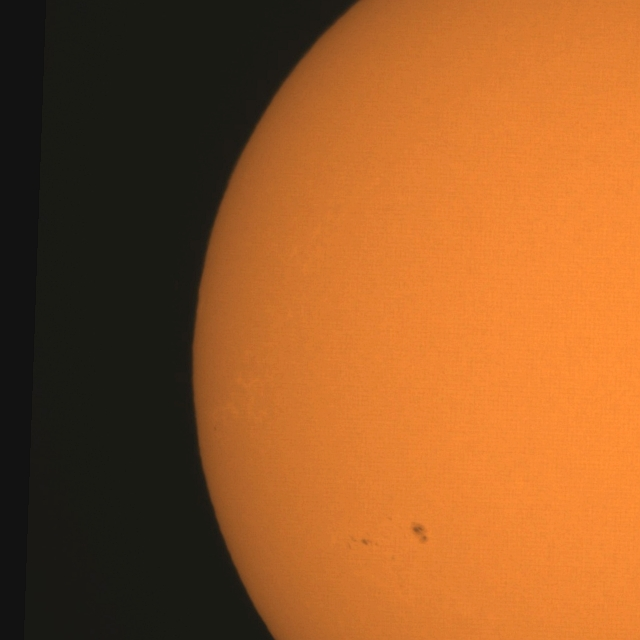sunspot: (410, 521, 429, 545), (350, 536, 378, 548)
